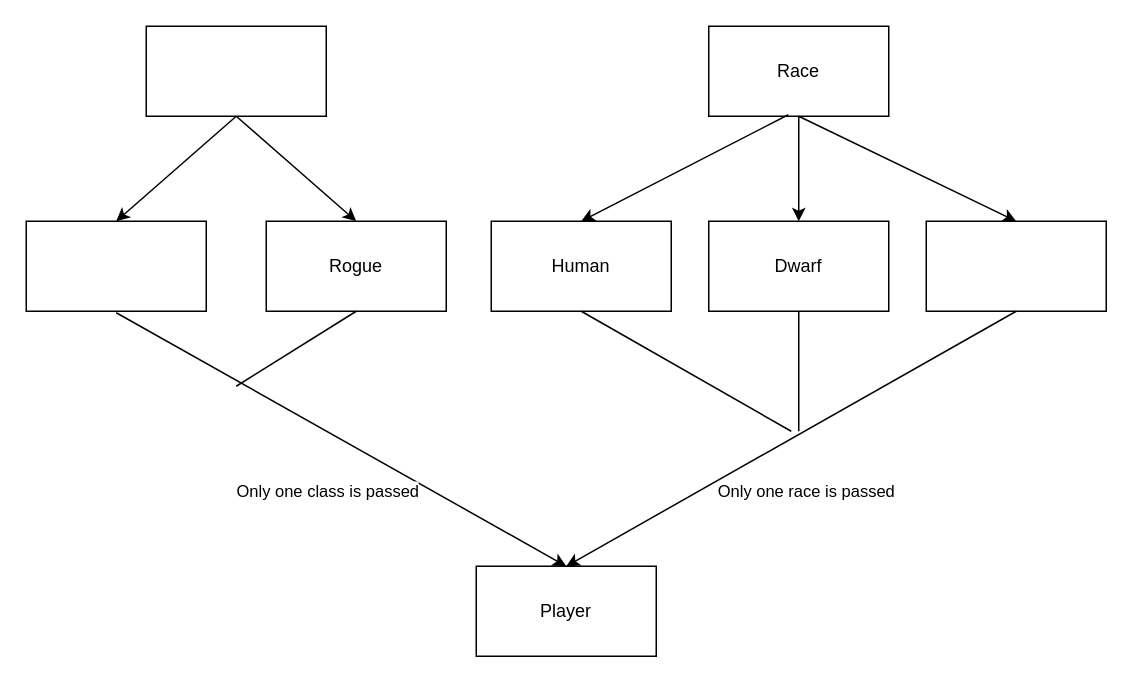
Some shapes in this 1133 by 683 pixel diagram are drawn without their labels. The shapes that lost their labels are listed below. From the top down, each one's centre as x and y in pixels, then its label:
At (235,70): "Class".
At (115,265): "Fighter".
At (1015,265): "Elf".
